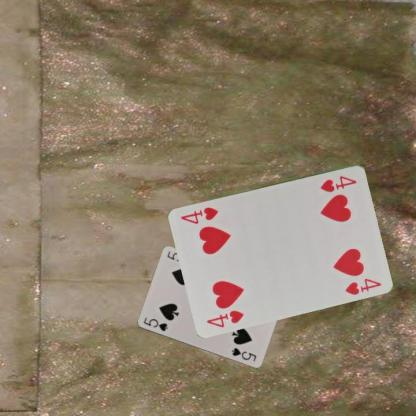4h: (204, 307, 245, 329), (318, 172, 358, 194)
5s: (141, 315, 169, 333)
